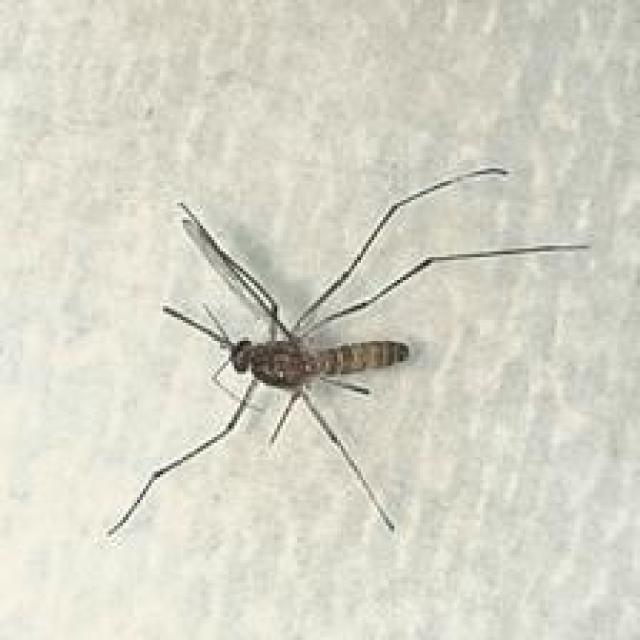Culex: (104, 164, 590, 539)
